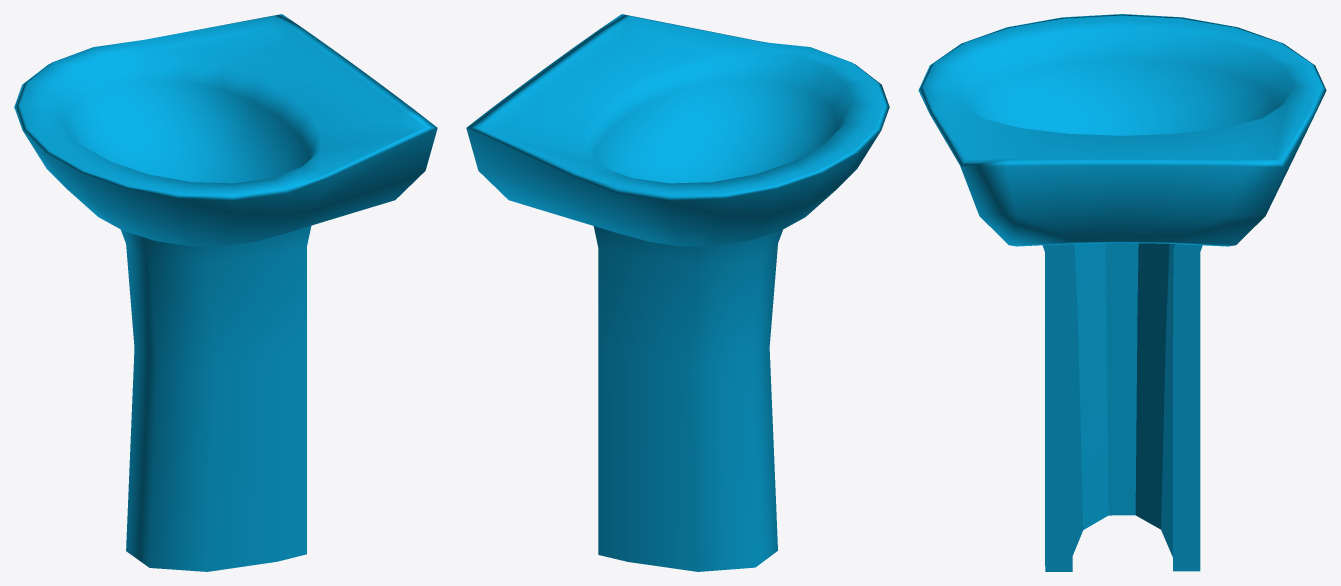
The model's file is Bathroom_Sink_01_Lod0.fbx.
The picture shows the model from 3 angles, left to right: view 1: azimuth 30°, elevation 25°; view 2: azimuth 150°, elevation 25°; view 3: azimuth 270°, elevation 25°; orthographic projection. The views are drawn at different scales.
Parts seen in each view (by area): view 1: Bathroom_Sink_01_Lod0; view 2: Bathroom_Sink_01_Lod0; view 3: Bathroom_Sink_01_Lod0.
Part boxes in pixels (left/top/right/bottom): Bathroom_Sink_01_Lod0: left=14, top=14, right=437, bottom=571; Bathroom_Sink_01_Lod0: left=466, top=14, right=889, bottom=571; Bathroom_Sink_01_Lod0: left=918, top=14, right=1326, bottom=571.
Bounding box in the file's own units: 68.23 × 90.81 × 73.96.
